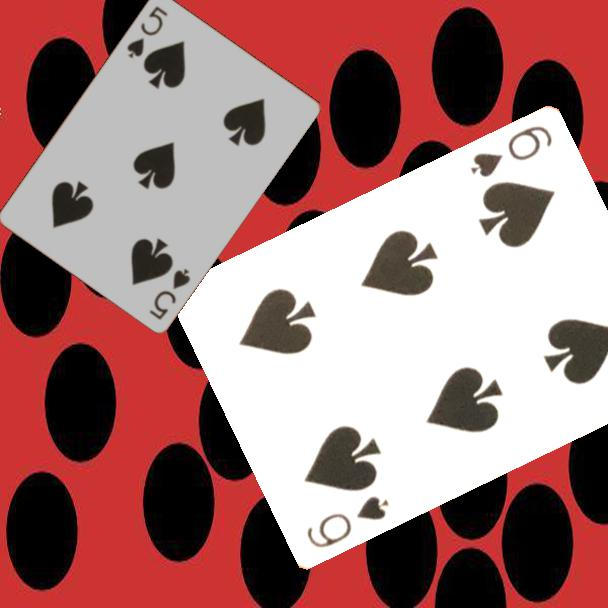s05: (123, 2, 170, 61), (146, 264, 193, 322)
s06: (303, 493, 392, 552), (467, 122, 555, 181)
